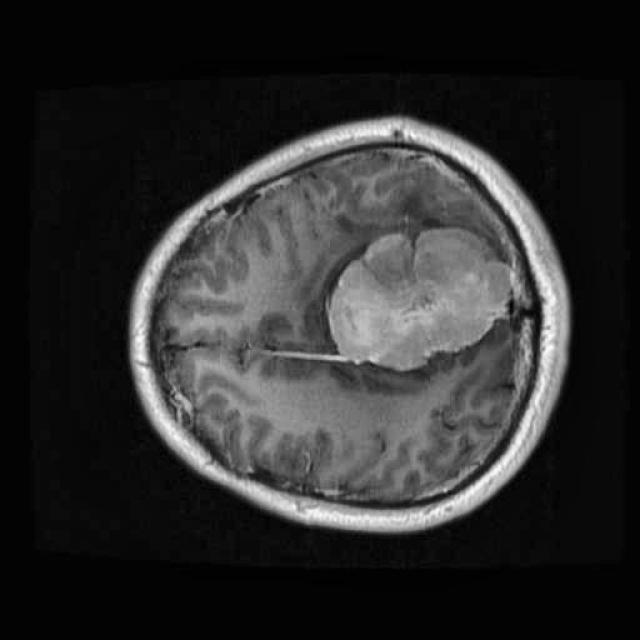Tumor: (318, 206, 525, 375)
